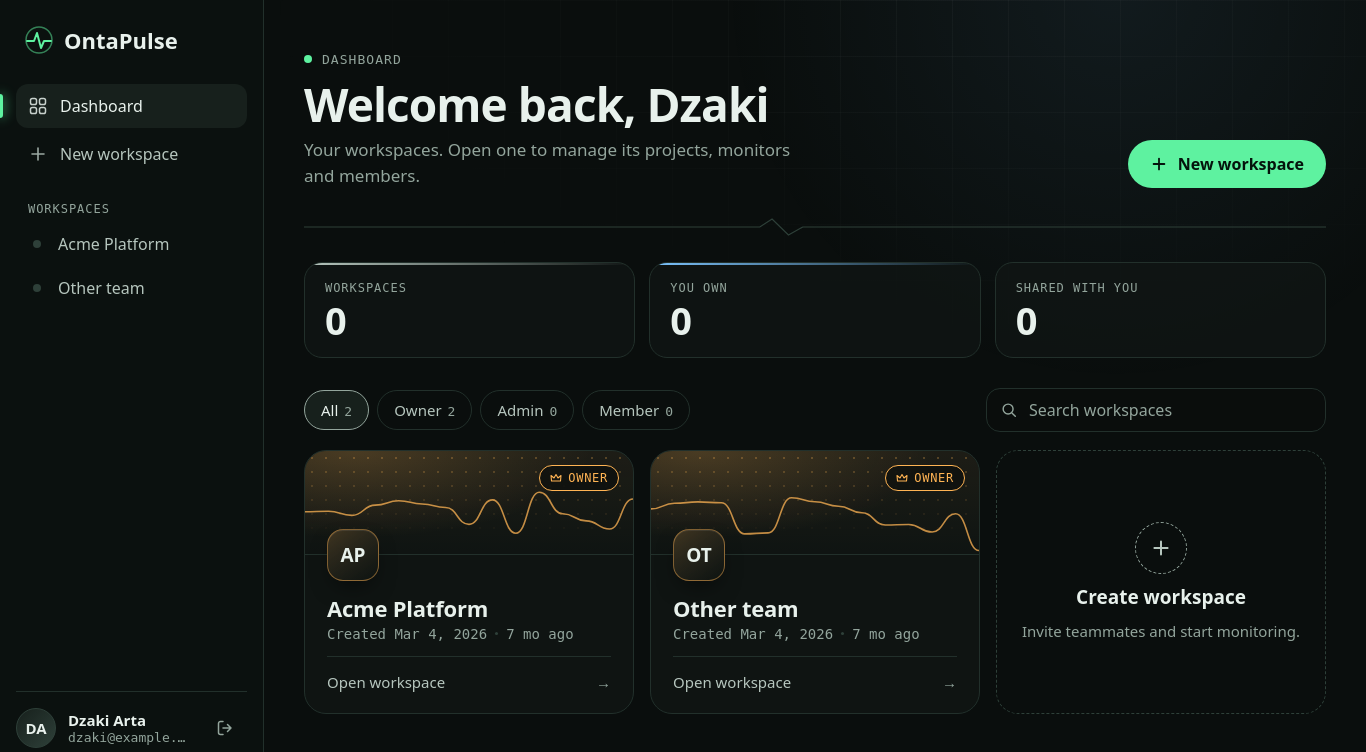
AppRoutes signed-in layout › opens a workspace that was just created, and lists it, without loading the list again
Check: the heading "Welcome back, Dzaki" is shown, box [304,80,810,129]
Click the button "New workspace" below "OntaPulse" at x=132, y=154, box [16,132,247,176]
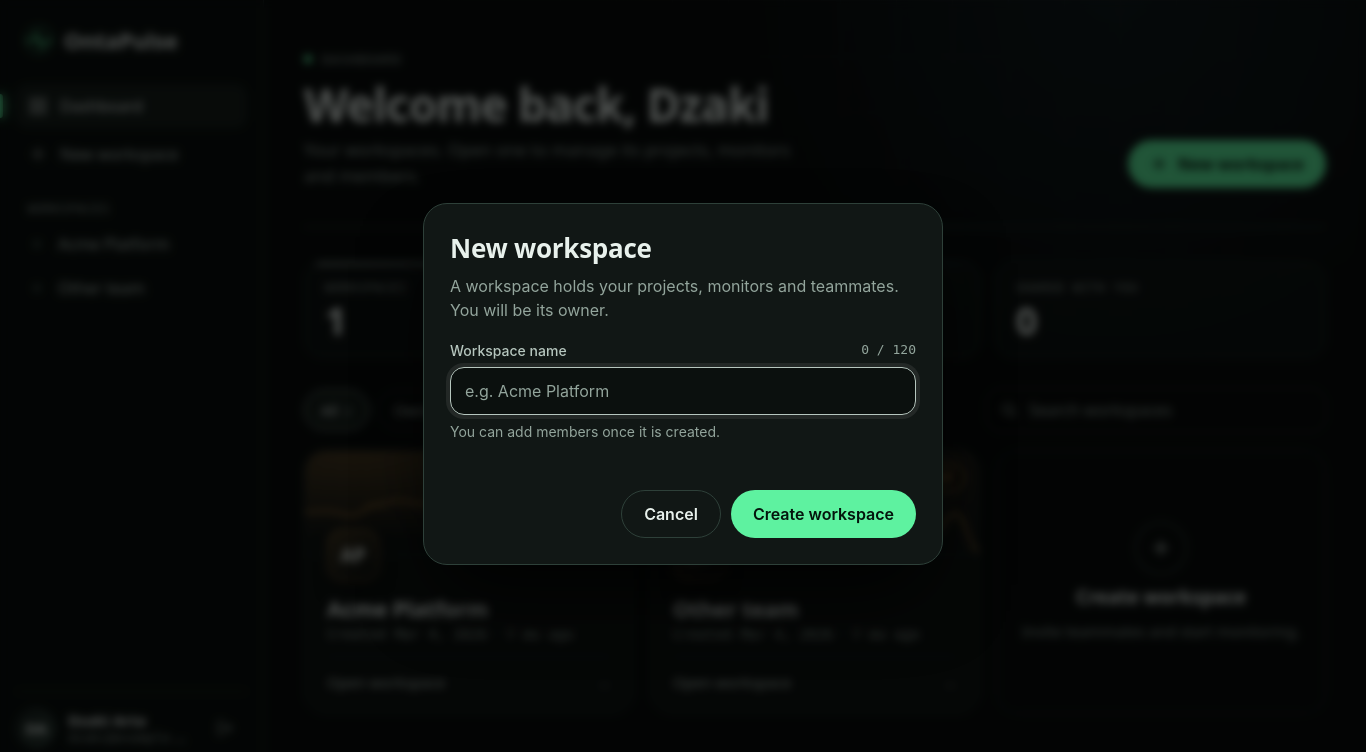
Type "Fresh start" into the field labelled "Workspace name" at x=683, y=391, box [450,367,916,415]
Then press Enter
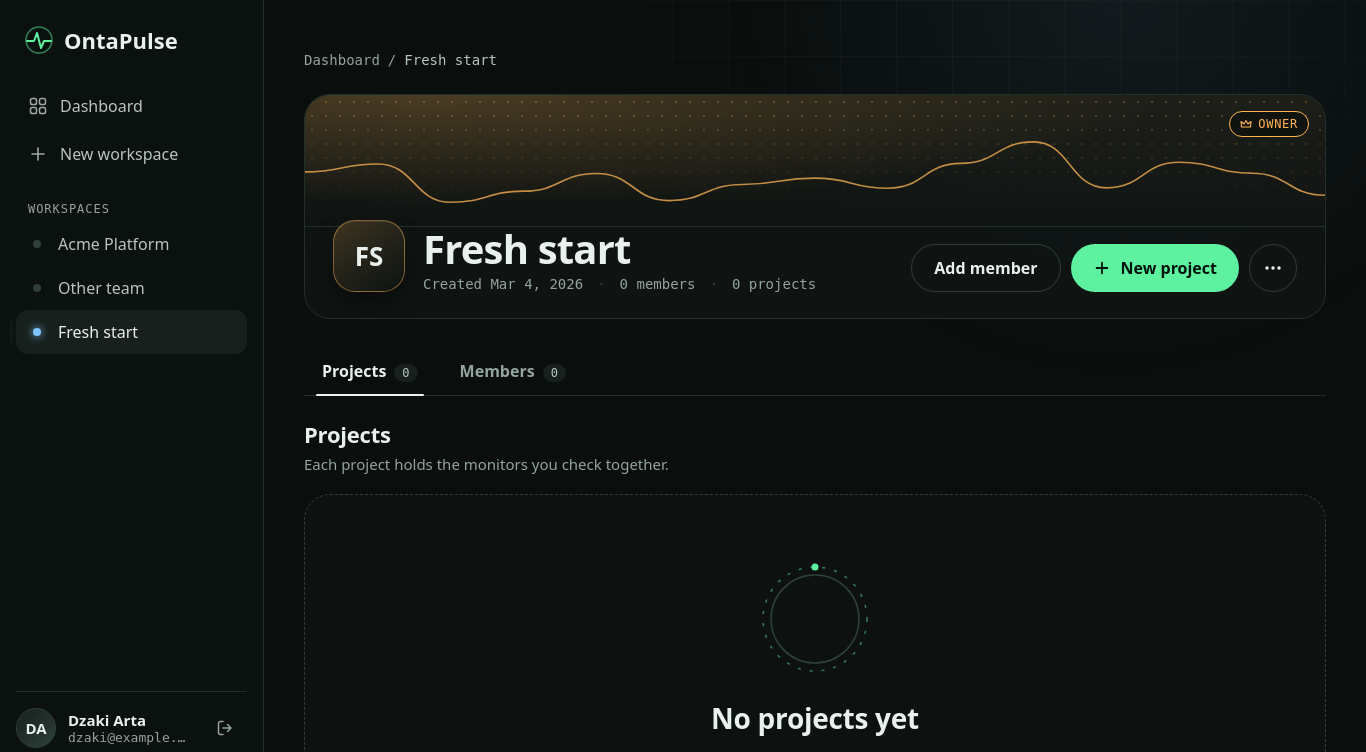
Check: the heading "Fresh start" is shown, box [423,221,631,276]
Check: the dialog is gone
Check: the link "Fresh start" is shown, box [16,310,247,354]
